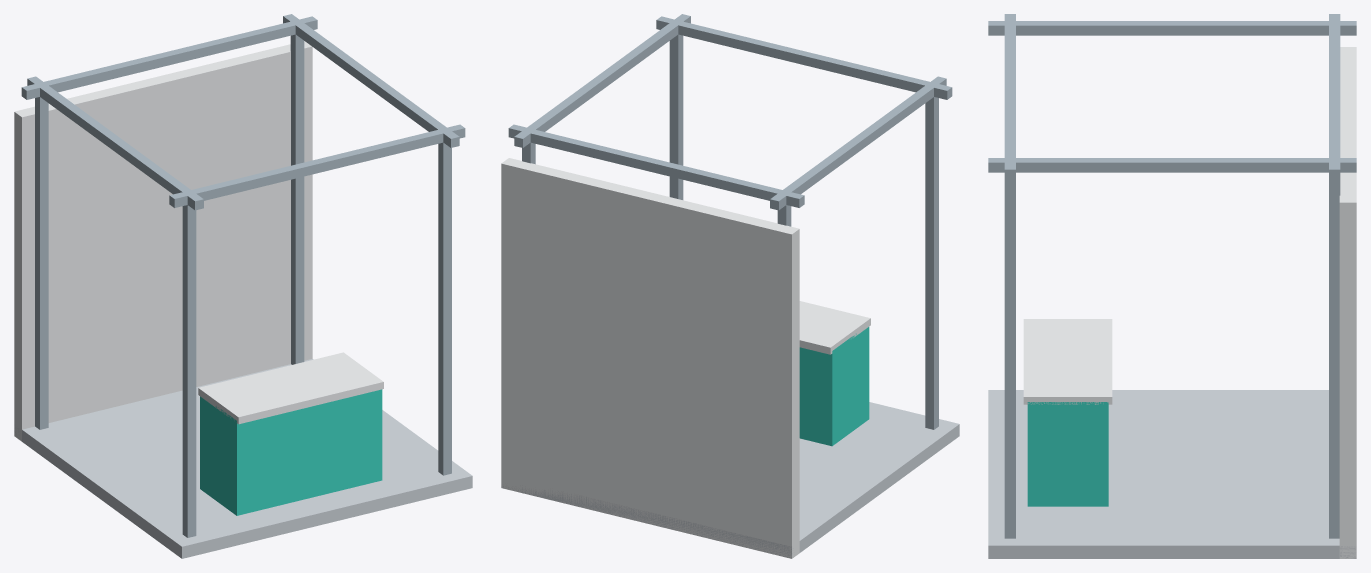
3 views of the same model, side by side, from view 1: azimuth 30°, elevation 25°; view 2: azimuth 150°, elevation 25°; view 3: azimuth 270°, elevation 25° (orthographic). The views are drawn at different scales.
Visible parts, largest first — view 1: Exhibition Booth Concept; view 2: Exhibition Booth Concept; view 3: Exhibition Booth Concept.
Part boxes in pixels (x1=…): Exhibition Booth Concept: x1=14, y1=14, x2=472, y2=558; Exhibition Booth Concept: x1=501, y1=14, x2=959, y2=558; Exhibition Booth Concept: x1=988, y1=14, x2=1356, y2=558.
Size of the model in its own units: 3 by 3.49 by 3.
